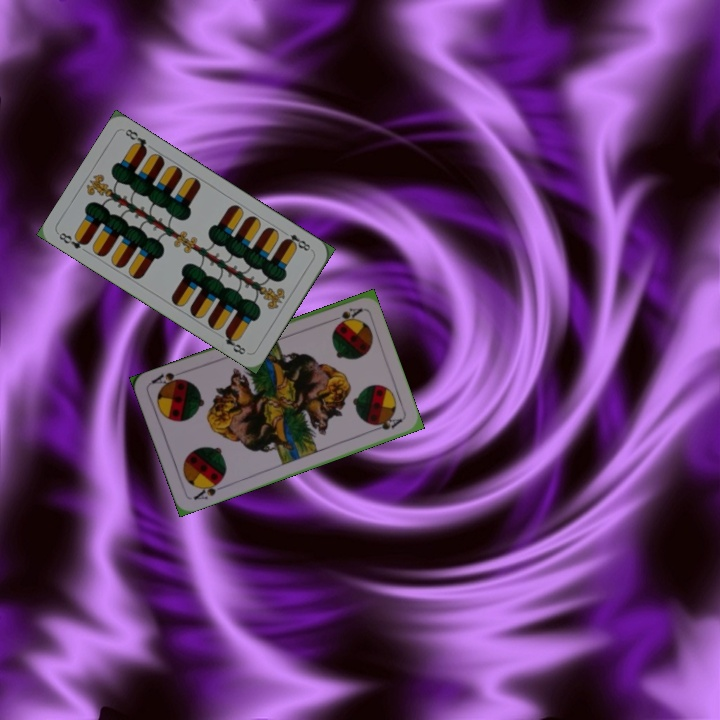E8: (279, 227, 315, 254), (55, 228, 90, 251)
SA: (189, 476, 228, 502), (325, 304, 364, 325)
